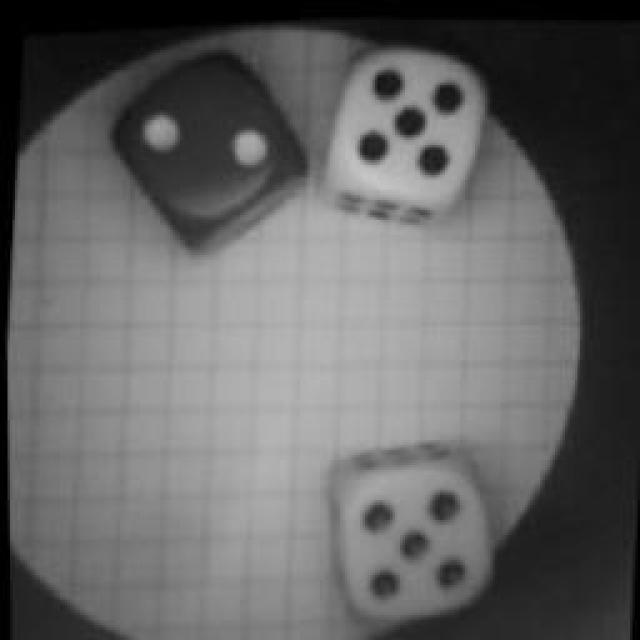dice_2: (101, 32, 316, 262)
dice_5: (317, 427, 510, 640), (315, 26, 495, 229)
